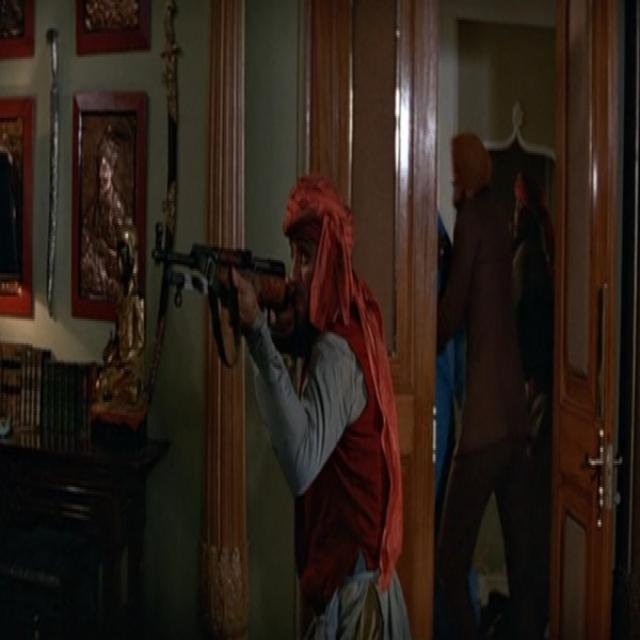rifle: (147, 211, 304, 334)
